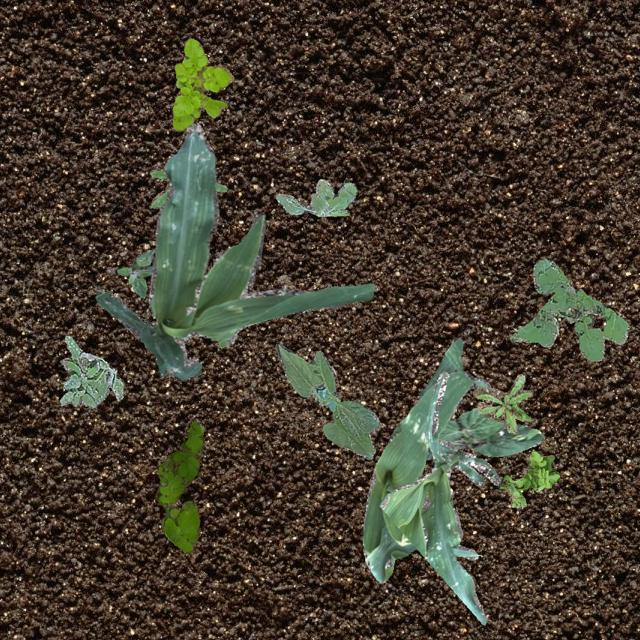crop: (95, 122, 372, 378), (362, 336, 489, 582), (378, 371, 499, 624), (274, 342, 379, 458), (424, 406, 542, 458)
weed: (508, 258, 628, 360), (156, 420, 202, 552), (172, 38, 232, 130), (59, 334, 122, 408), (472, 373, 532, 432), (496, 451, 558, 506), (148, 168, 226, 208), (274, 178, 356, 215), (116, 248, 154, 296)
